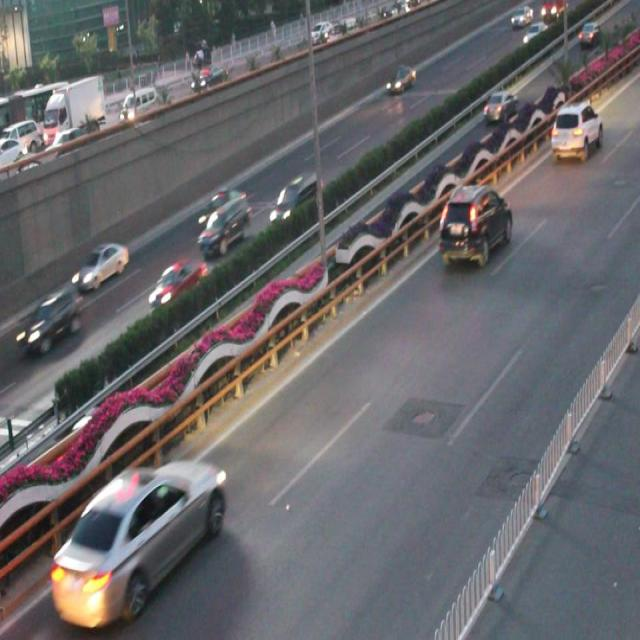car: (52, 462, 224, 626), (438, 185, 513, 268), (17, 291, 82, 353), (196, 197, 252, 256), (147, 256, 208, 308), (548, 105, 602, 162), (74, 239, 127, 291), (267, 174, 322, 224), (196, 186, 245, 225), (481, 87, 516, 128), (69, 406, 106, 440), (383, 64, 418, 96)
